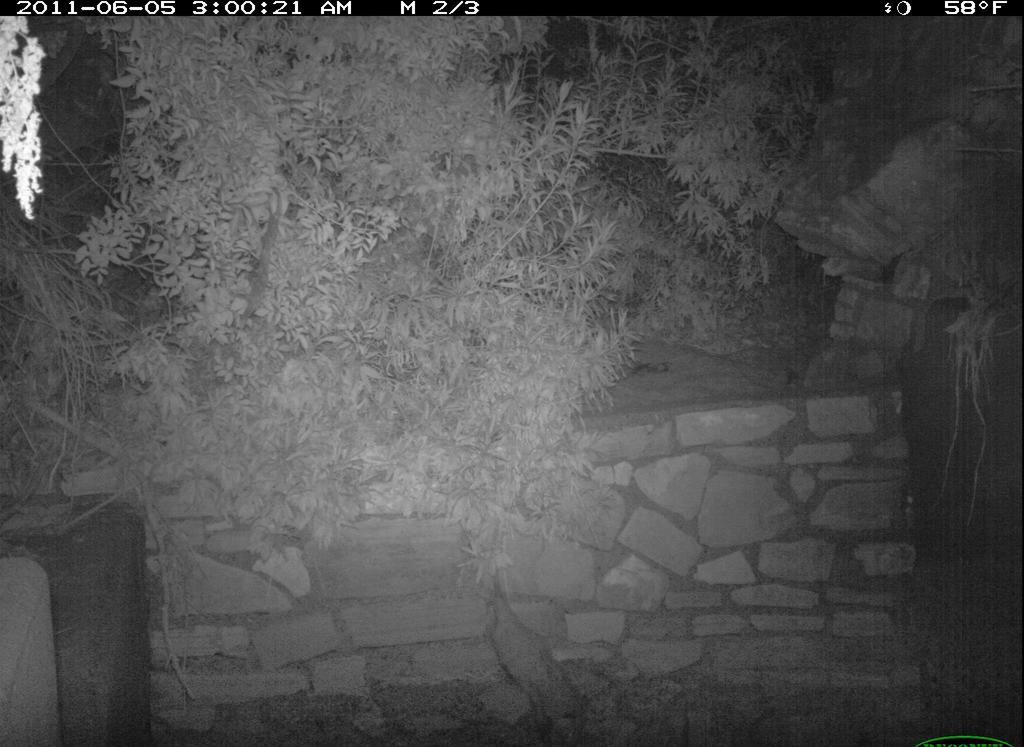opossum: (478, 557, 600, 733)
